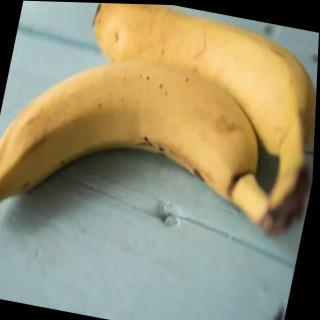banana: (0, 38, 276, 260), (72, 2, 320, 161)
